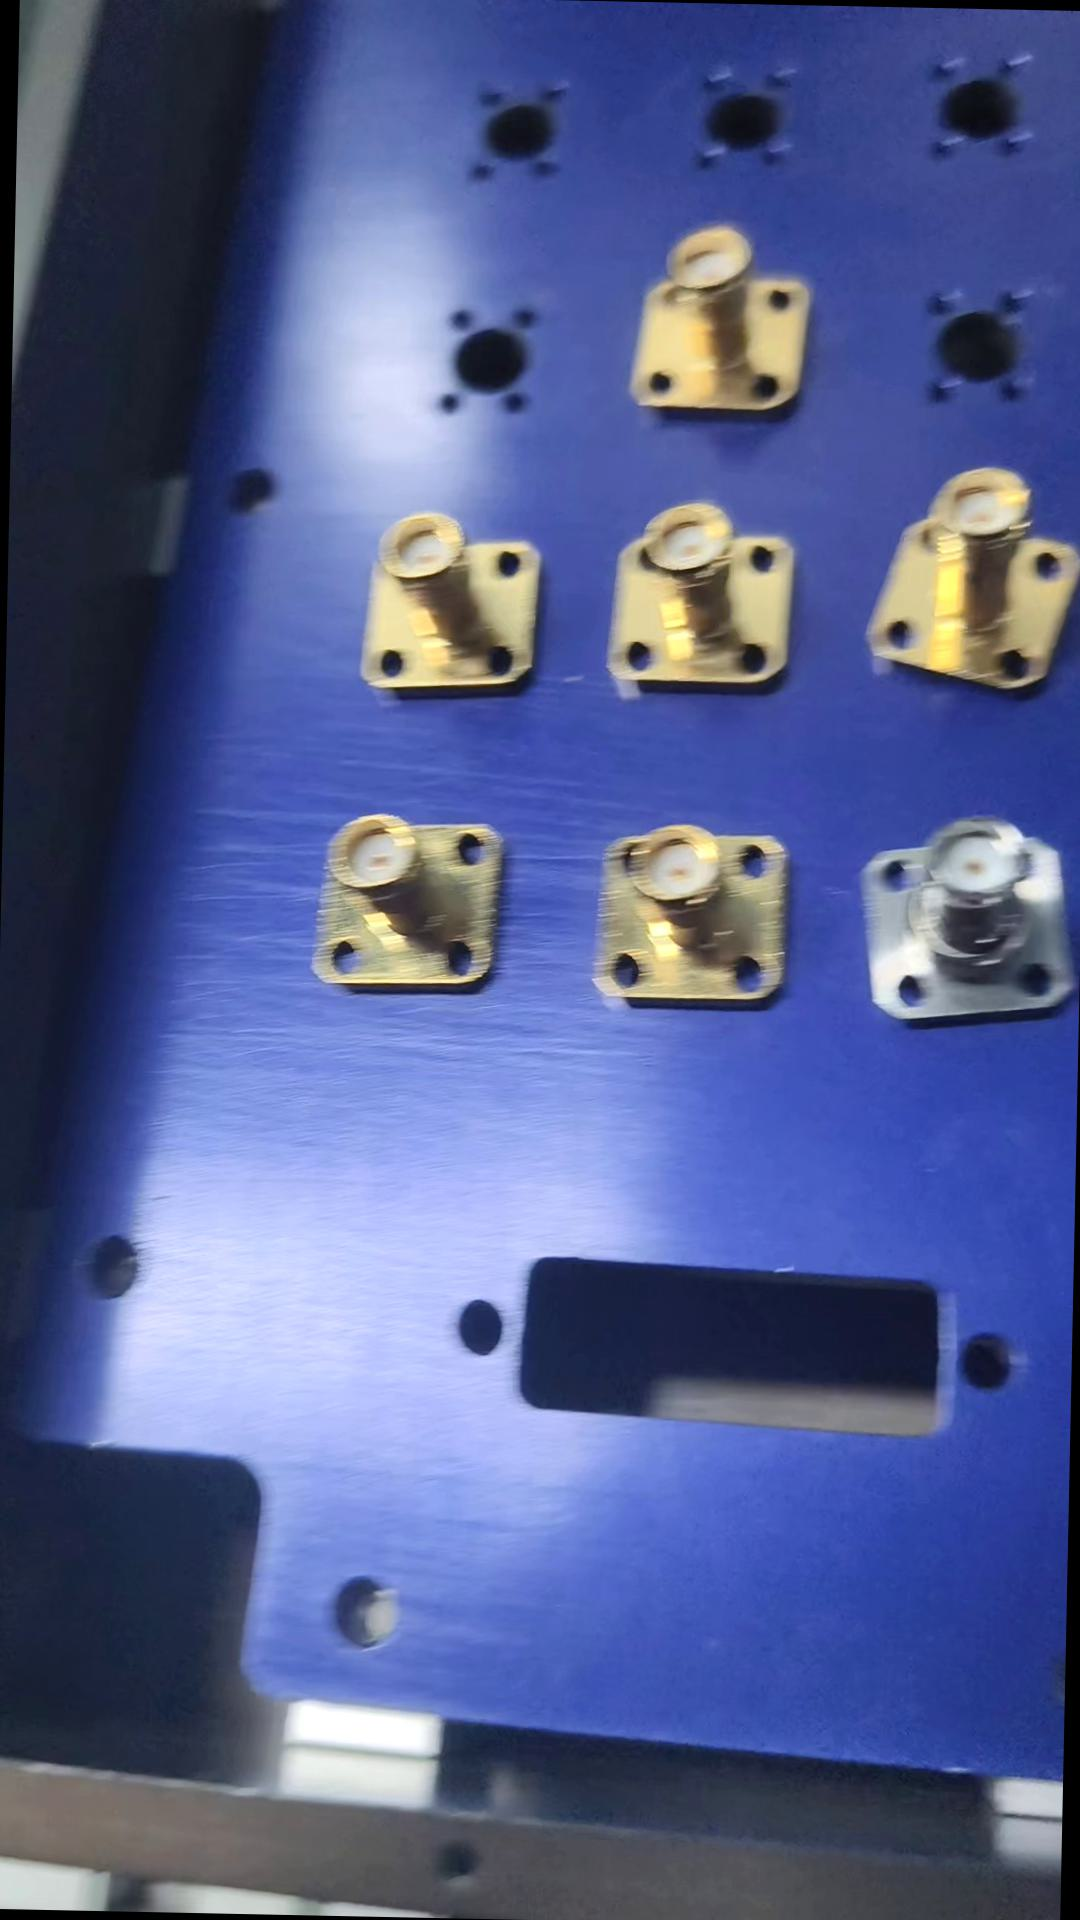SMA: (855, 816, 1079, 1035), (872, 464, 1079, 699), (589, 822, 799, 1015), (603, 495, 800, 698), (636, 222, 828, 423), (309, 814, 509, 1001), (349, 510, 546, 695)
